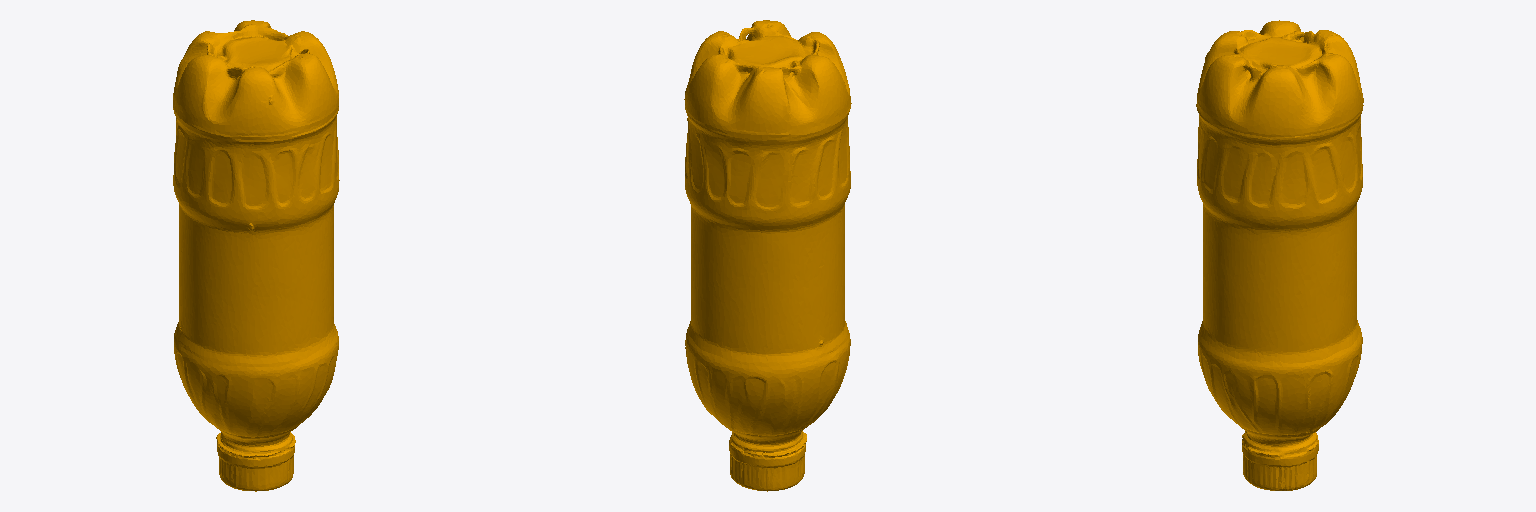
The robot description file, URDF, robot "root":
<robot name="root">
  <link name="link_original">
    <visual>
      <origin xyz="0 0 0" rpy="0 0 0"/>
      <geometry>
        <mesh filename="frame_000000_object_mesh_grasp_centered.obj" scale="1.0000E+00 1.0000E+00 1.0000E+00"/>
      </geometry>
    </visual>
    <inertial>
      <origin xyz="0 0 0" rpy="0 0 0"/>
      <inertia ixx="1.53E-02" ixy="2.11E-07" ixz="-5.70E-06" iyy="1.53E-02" iyz="-4.52E-07" izz="2.91E-03"/>
    </inertial>
    <collision>
      <origin xyz="0 0 0" rpy="0 0 0"/>
      <geometry>
        <mesh filename="coacd_allinone.obj" scale="1.0000E+00 1.0000E+00 1.0000E+00"/>
      </geometry>
    </collision>
  </link>
</robot>

--- What the picture shows (computed from the rendered views, not written in the file) ---
3 views of the same robot in one strip: view 1: azimuth 30°, elevation 25°; view 2: azimuth 150°, elevation 25°; view 3: azimuth 270°, elevation 25° (orthographic).
Robot: root — 1 links, 0 joints (none); root link link_original; default pose: all joints at 0.
Links seen in each view (by area): view 1: link_original; view 2: link_original; view 3: link_original.
Boxes of the visible links, <box> form: link_original: <box>173,20,339,491</box>; link_original: <box>684,20,851,491</box>; link_original: <box>1196,20,1363,490</box>.
Size in the robot's own frame: 0.1101 by 0.1102 by 0.3149 metres.
1 mesh visuals loaded from 1 distinct referenced files (1 OBJ).
